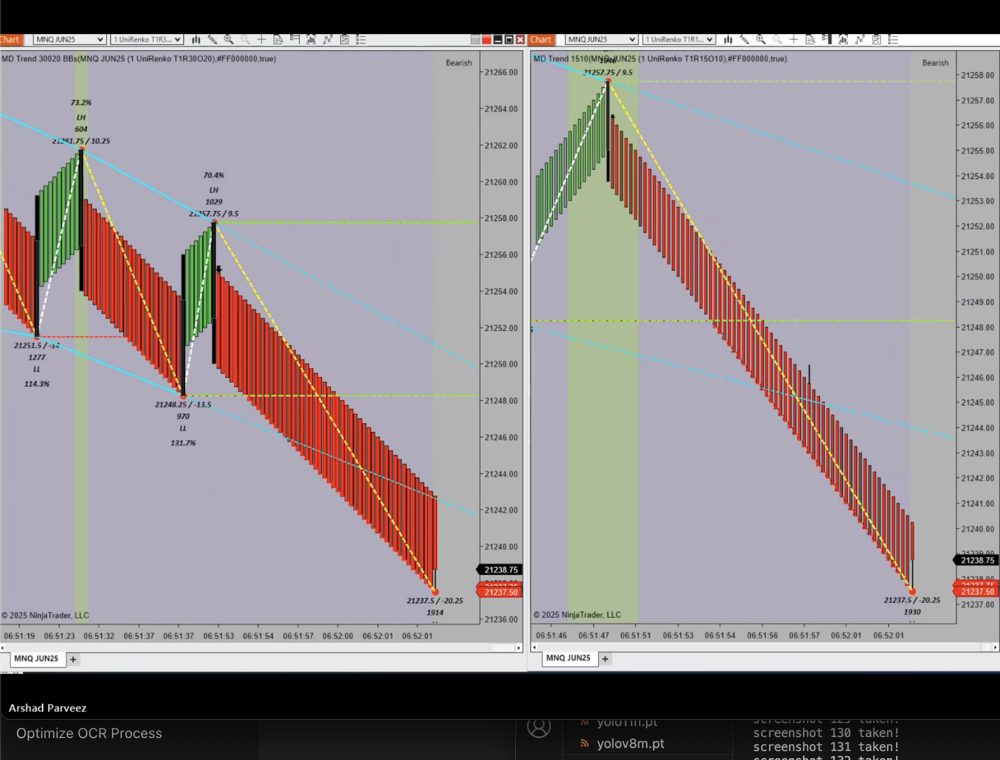LH: (206, 180, 230, 200), (69, 111, 95, 127)
LL: (23, 363, 51, 377), (174, 422, 195, 439)
